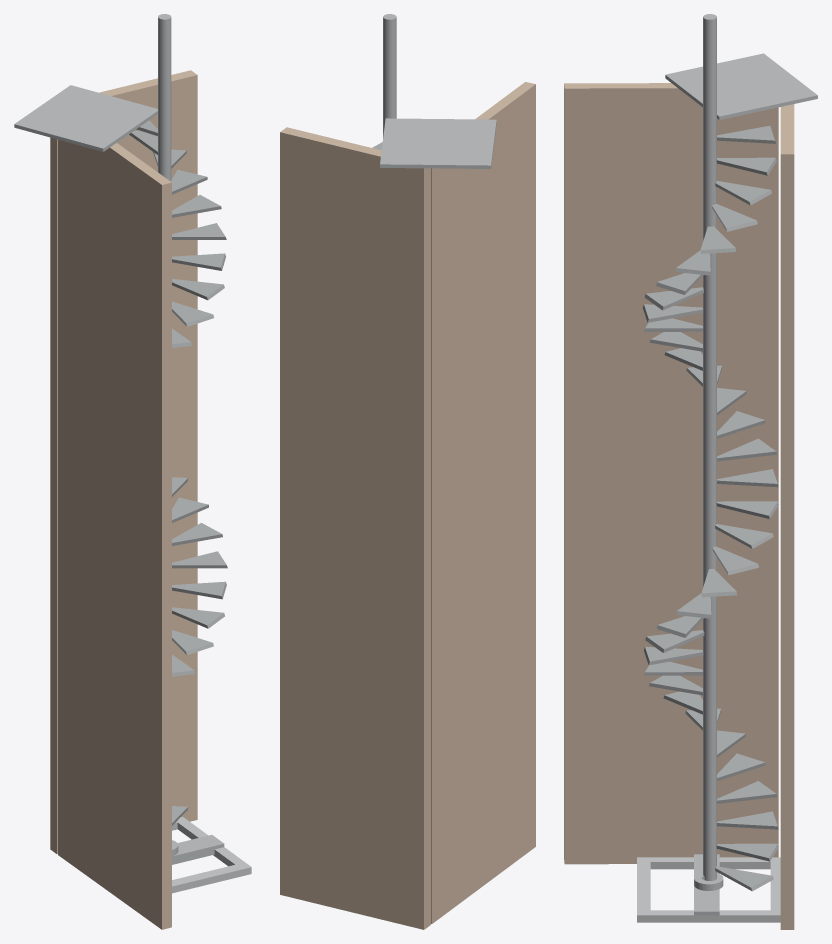
File: scala-piano-terra-CoFcp-mS.glb
3 views of the same model, side by side, from view 1: azimuth 30°, elevation 25°; view 2: azimuth 150°, elevation 25°; view 3: azimuth 270°, elevation 25° (orthographic). The views are drawn at different scales.
Parts seen in each view (by area): view 1: Mesh_Mesh_head_geo.001_lambert2SG.001; view 2: Mesh_Mesh_head_geo.001_lambert2SG.001; view 3: Mesh_Mesh_head_geo.001_lambert2SG.001.
Boxes of the visible parts, x1,y1,x2,y2 form: Mesh_Mesh_head_geo.001_lambert2SG.001: (14, 14, 251, 929); Mesh_Mesh_head_geo.001_lambert2SG.001: (280, 14, 535, 929); Mesh_Mesh_head_geo.001_lambert2SG.001: (564, 14, 817, 929).
Size of the model in its own units: 0.117 by 0.493 by 0.129.
